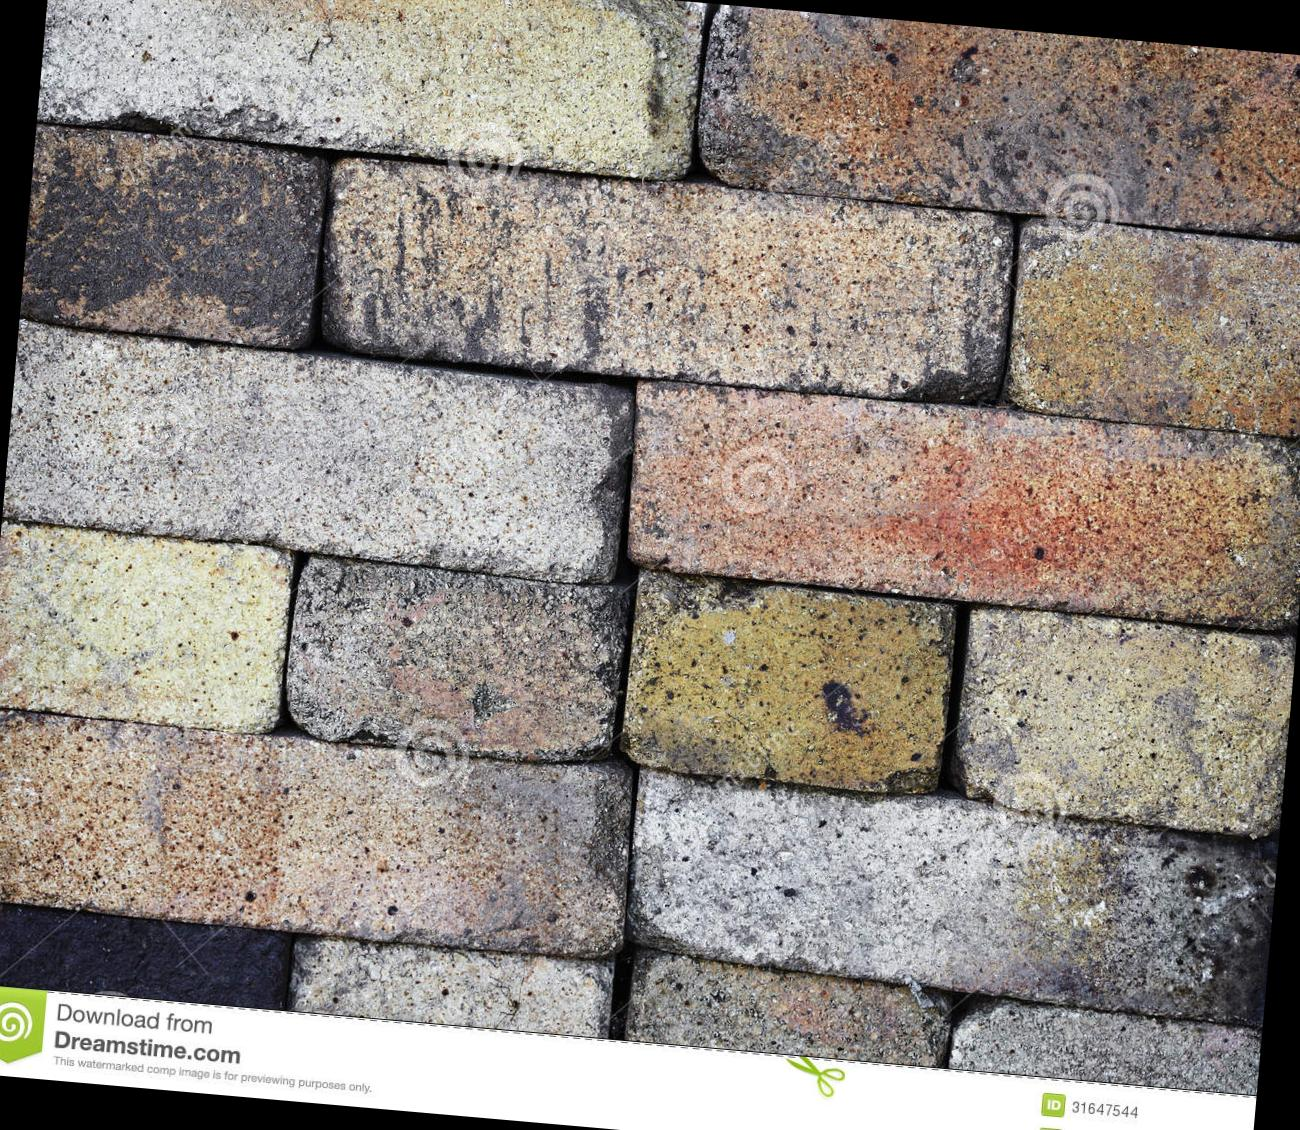brick: (318, 153, 1013, 408), (622, 768, 1280, 1026), (2, 320, 633, 587), (623, 380, 1300, 627), (0, 708, 632, 958), (693, 4, 1300, 239), (36, 0, 706, 179), (951, 607, 1297, 839), (622, 571, 957, 794), (281, 555, 630, 765), (19, 124, 325, 350), (1005, 215, 1300, 438), (0, 520, 292, 734), (622, 948, 951, 1066), (290, 935, 614, 1042), (0, 902, 298, 1013), (950, 998, 1262, 1099)
